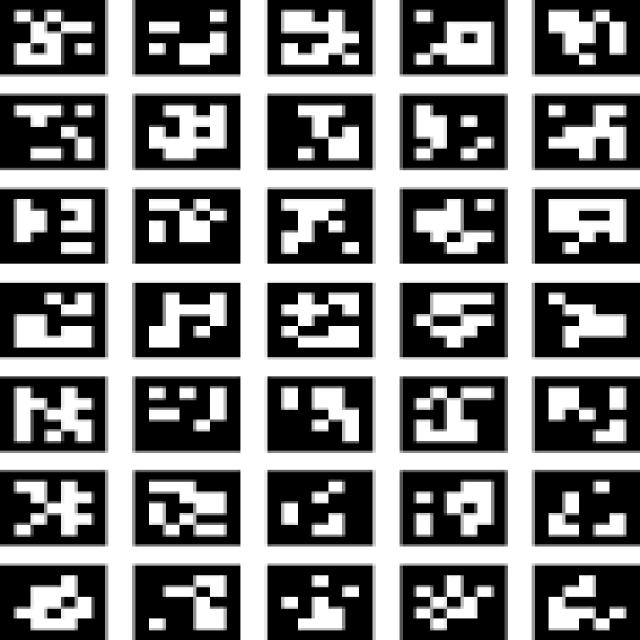aruco: (378, 460, 529, 550), (252, 453, 386, 551), (245, 366, 389, 454), (390, 360, 519, 458), (386, 551, 525, 640), (243, 269, 381, 358), (121, 458, 255, 547), (518, 453, 640, 549), (390, 269, 520, 359), (520, 270, 640, 366), (123, 554, 256, 640), (252, 556, 388, 640), (119, 363, 243, 454), (384, 180, 514, 266), (518, 546, 636, 640), (118, 275, 255, 354), (264, 181, 389, 266), (0, 464, 126, 546), (131, 85, 240, 179), (0, 276, 123, 359), (0, 557, 123, 640), (525, 368, 640, 453), (0, 372, 119, 453), (0, 183, 108, 267), (529, 181, 640, 262), (132, 0, 247, 77), (533, 94, 640, 173), (127, 188, 236, 265), (3, 0, 112, 76), (398, 95, 506, 170), (2, 95, 109, 168), (403, 0, 508, 74), (271, 95, 376, 168), (540, 1, 640, 77), (274, 3, 373, 74), (271, 178, 441, 192)
